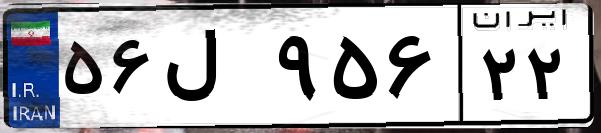2: (475, 38, 525, 113), (525, 38, 570, 115)
5: (330, 28, 385, 110), (57, 26, 110, 100)
6: (385, 28, 445, 110), (110, 28, 158, 98)
9: (270, 28, 330, 110)
ل: (158, 20, 270, 120)
